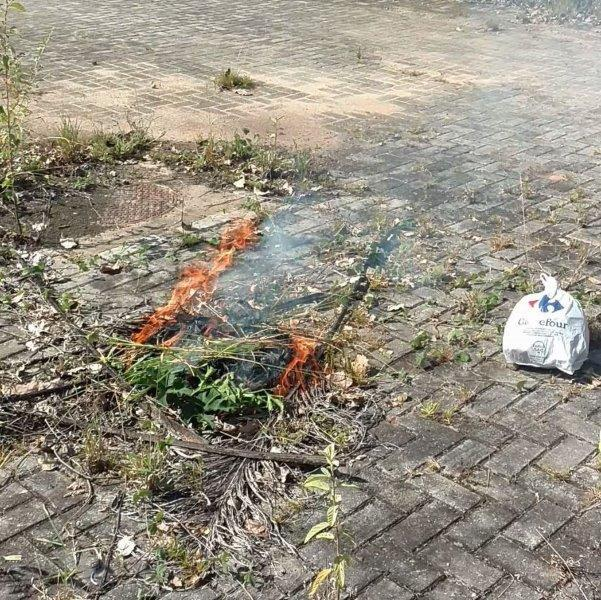Fire: (133, 220, 256, 349), (282, 329, 311, 388)
